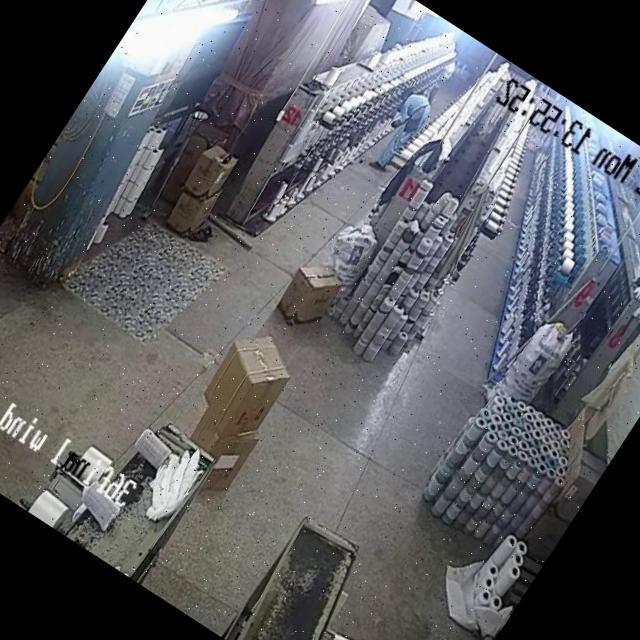person: (361, 78, 444, 179)
